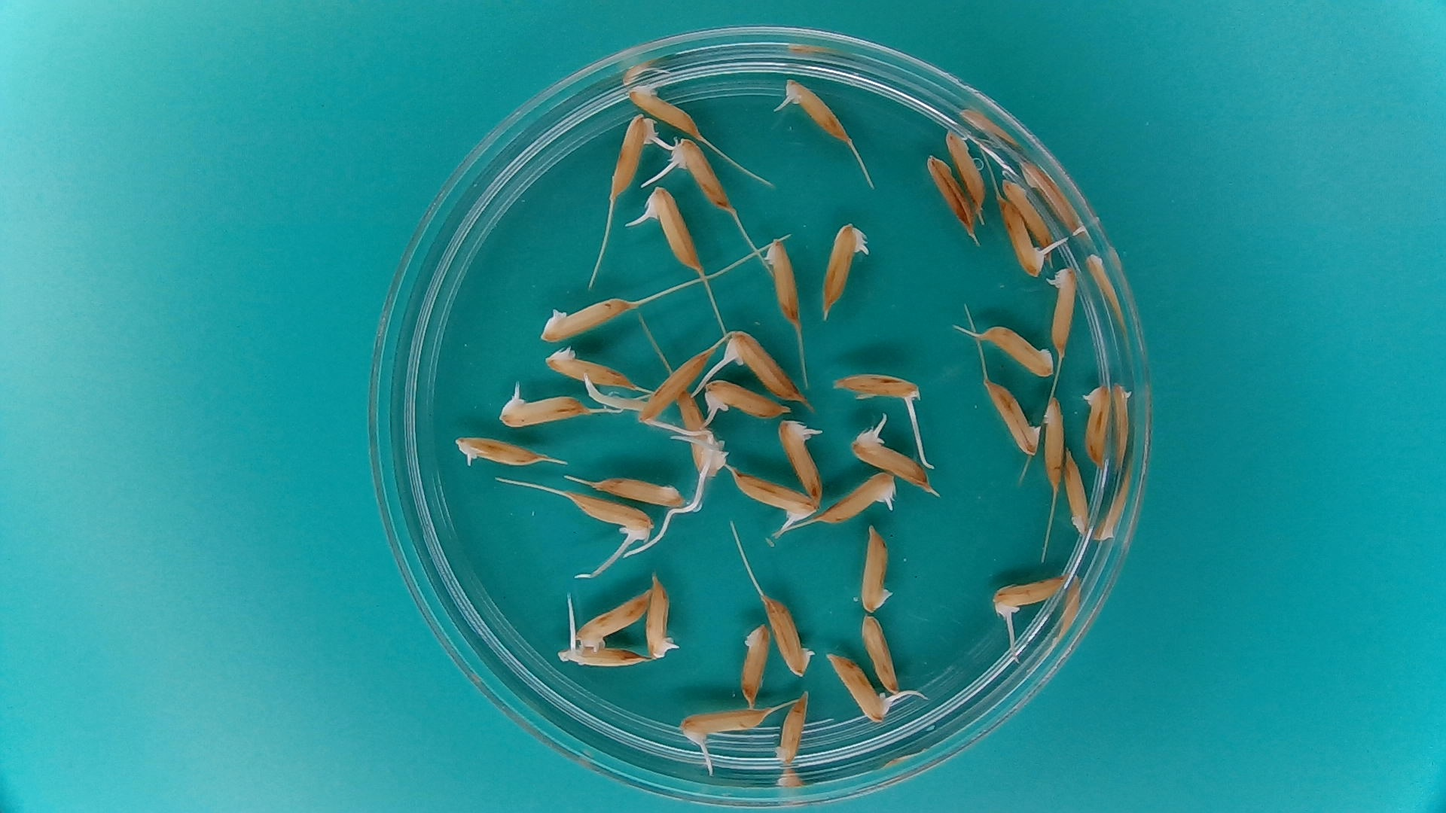no: (574, 587, 654, 653), (535, 293, 633, 343), (984, 378, 1044, 458), (983, 319, 1057, 379), (764, 592, 816, 677), (542, 343, 638, 389), (1000, 177, 1055, 253), (926, 154, 978, 232), (760, 233, 803, 323), (946, 131, 987, 218), (593, 473, 687, 508), (862, 614, 900, 696), (859, 524, 894, 613), (1080, 380, 1112, 470), (775, 688, 810, 768), (739, 622, 772, 702), (1063, 449, 1091, 538), (1042, 392, 1065, 490)
yes: (717, 327, 810, 401), (632, 183, 697, 272), (729, 465, 818, 525), (638, 353, 709, 427), (819, 219, 871, 319), (825, 650, 892, 725), (847, 433, 935, 489), (816, 468, 898, 525), (626, 83, 707, 139), (673, 136, 733, 209), (673, 388, 721, 478), (775, 416, 825, 501), (572, 492, 654, 543), (786, 75, 850, 139), (609, 111, 655, 199), (679, 709, 767, 752), (996, 199, 1043, 279), (496, 390, 590, 429), (984, 572, 1064, 617), (831, 369, 925, 407), (702, 379, 789, 420), (453, 432, 541, 470), (643, 569, 678, 661), (1045, 264, 1081, 353), (557, 640, 645, 668)
